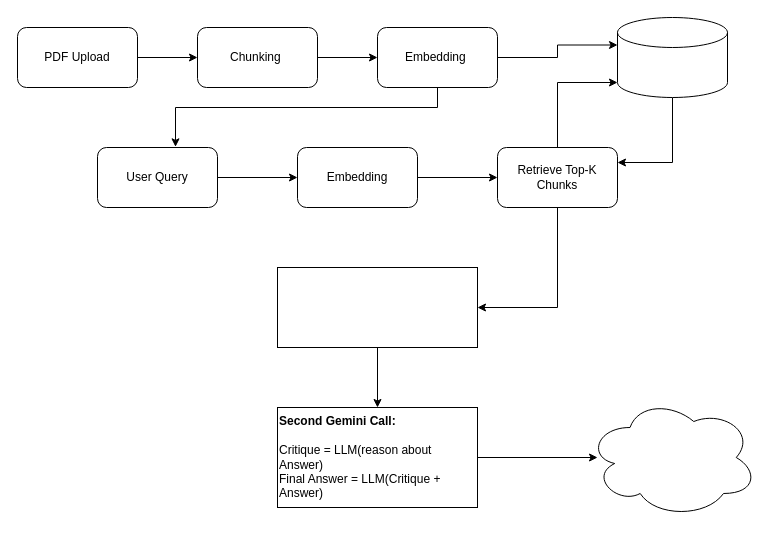
Image size: 775x535. Some labels were removed from this diagram. Here are the shapes that lost their labels. From the top down, the box of each, then its label:
(616, 16, 728, 98): OpenSearch Indexing
(276, 266, 478, 348): First Gemini Call: Answer = LLM(context + query)
(586, 396, 758, 518): 🧠 Display Final Answer to User
